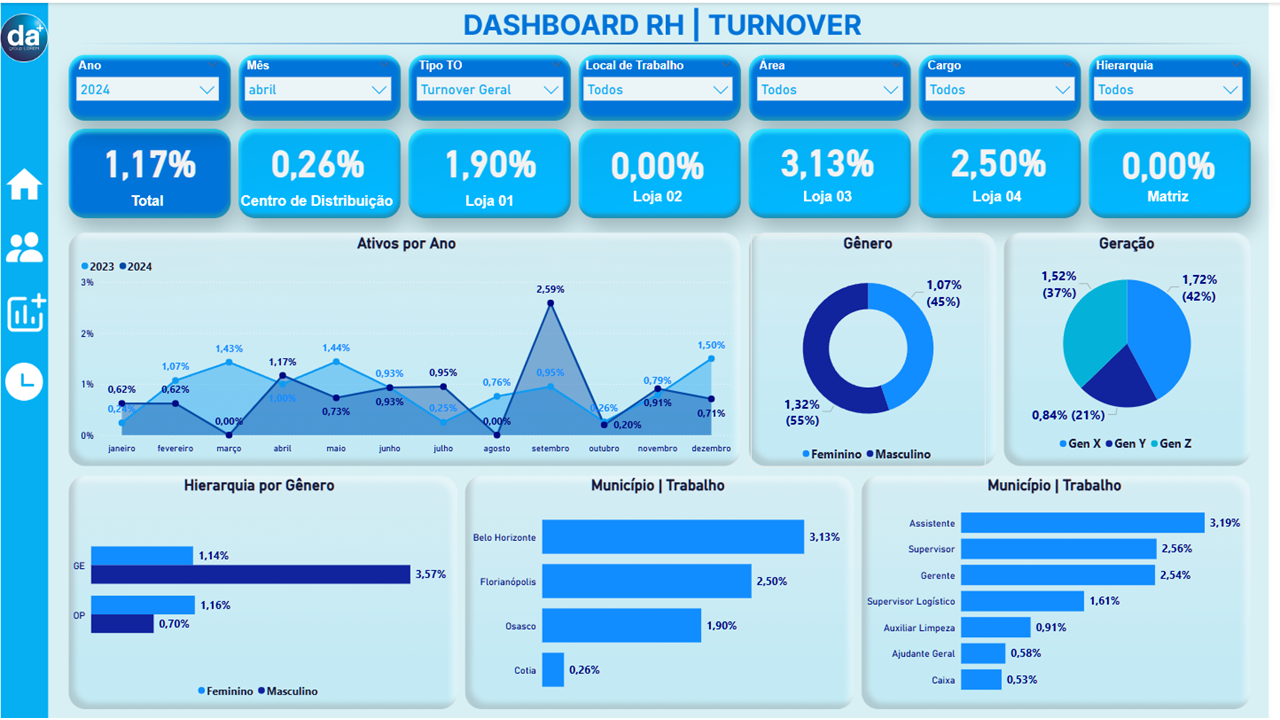

The dashboard page shown, as its layout file describes it:
{"tool":"powerbi","page":{"name":"Turnover","canvas":[1920,1080],"ordinal":2},"visuals":[{"type":"slicer","fields":{"Values":["D_Calendario.Date.Variation.Hierarquia de datas.Ano"]},"box":[104.4,78.9,233.3,102.2],"z":0},{"type":"slicer","fields":{"Values":["F_BASE.Local de Trabalho"]},"box":[865.6,78.9,243.3,102.2],"z":1000},{"type":"slicer","fields":{"Values":["F_BASE.Cargo"]},"box":[1378.9,78.9,243.3,97.8],"z":2000},{"type":"slicer","fields":{"Values":["F_BASE.Área"]},"box":[1126.7,78.9,237.8,97.8],"z":3000},{"type":"card","title":"xxxxx","fields":{"Values":["_Medida Turnover.Resultado_Filtro_Turnover"]},"box":[357.8,195.6,238.9,77.8],"z":5000},{"type":"textbox","box":[348.9,280,254.4,43.3],"z":6000},{"type":"textbox","box":[615.6,281.1,238.9,42.2],"z":7000},{"type":"textbox","box":[870,274.4,234.4,41.1],"z":8000},{"type":"textbox","box":[1120,274.4,244.4,41.1],"z":9000},{"type":"textbox","box":[1378.9,274.4,234.4,41.1],"z":10000},{"type":"textbox","box":[1637.8,274.4,231.1,41.1],"z":11000},{"type":"card","title":"xxxxx","fields":{"Values":["_Medida Turnover.Resultado_Filtro_Turnover"]},"box":[615.6,195.6,238.9,77.8],"z":12000},{"type":"card","title":"xxxxx","fields":{"Values":["_Medida Turnover.Resultado_Filtro_Turnover"]},"box":[870,195.6,234.4,83.3],"z":13000},{"type":"card","title":"xxxxx","fields":{"Values":["_Medida Turnover.Resultado_Filtro_Turnover"]},"box":[1120,193.3,244.4,81.1],"z":14000},{"type":"card","title":"xxxxx","fields":{"Values":["_Medida Turnover.Resultado_Filtro_Turnover"]},"box":[1635.6,195.6,235.6,83.3],"z":15000},{"type":"card","title":"xxxxx","fields":{"Values":["_Medida Turnover.Resultado_Filtro_Turnover"]},"box":[1378.9,193.3,238.9,81.1],"z":16000},{"type":"pieChart","title":"Geração","fields":{"Series":["D_Geracao.Geração"],"Y":["_Medida Turnover.Resultado_Filtro_Turnover"]},"box":[1508.9,346.7,365.6,335.6],"z":17000},{"type":"donutChart","title":"Gênero","fields":{"Series":["F_BASE.Sexo"],"Y":["_Medida Turnover.Resultado_Filtro_Turnover"]},"box":[1126.7,346.7,352.2,350],"z":18000},{"type":"clusteredBarChart","title":"Hierarquia por Gênero","fields":{"Category":["D_Tipo-Cargo.Tipo_Cargo"],"Series":["F_BASE.Sexo"],"Y":["_Medida Turnover.Resultado_Filtro_Turnover"]},"box":[103.3,710,571.1,342.2],"z":19000},{"type":"clusteredBarChart","title":"Município | Trabalho","fields":{"Category":["F_BASE.Local_Municipio"],"Y":["_Medida Turnover.Resultado_Filtro_Turnover"]},"box":[703.3,710,567.8,350],"z":20000},{"type":"lineChart","title":"Ativos por Ano","fields":{"Category":["D_Calendario.Date.Variation.Hierarquia de datas.Mês"],"Series":["D_Calendario.Date.Variation.Hierarquia de datas.Ano"],"Y":["_Medida Turnover.Resultado_Filtro_Turnover"]},"box":[115.6,346.7,988.9,335.6],"z":21000},{"type":"slicer","fields":{"Values":["D_Turnover.Tipo TO"]},"box":[615.6,78.9,238.9,102.2],"z":22000},{"type":"slicer","fields":{"Values":["D_Calendario.Date.Variation.Hierarquia de datas.Mês"]},"box":[357.8,78.9,238.9,102.2],"z":23000},{"type":"textbox","box":[103.3,281.1,234.4,43.3],"z":24000},{"type":"card","title":"xxxxx","fields":{"Values":["_Medida Turnover.Resultado_Filtro_Turnover"]},"box":[105.6,195.6,238.9,78.9],"z":25000},{"type":"clusteredBarChart","title":"Município | Trabalho","fields":{"Category":["D_Tipo-Cargo.Cargo"],"Y":["_Medida Turnover.Resultado_Filtro_Turnover"]},"box":[1294.4,710,576.7,342.2],"z":26000},{"type":"slicer","fields":{"Values":["F_BASE.Tipo_cargo"]},"box":[1632.2,78.9,242.2,97.8],"z":27000},{"type":"actionButton","box":[0,280.7,80,26],"z":28000},{"type":"actionButton","box":[0,375.3,80,26],"z":29000},{"type":"actionButton","box":[0,478.7,80,26],"z":30000},{"type":"actionButton","box":[0,575.3,80,26],"z":31000}]}

Visuals, with their boxes on the page's 1920x1080 design canvas (x1, y1, x2, y2). These are canvas units, not pixel positions in the 1280x720 screenshot, which may show the page scaled, cropped or inside an application window:
slicer - D_Calendario.Date.Variation.Hierarquia de datas.Ano: box(104, 79, 338, 181)
slicer - F_BASE.Local de Trabalho: box(866, 79, 1109, 181)
slicer - F_BASE.Cargo: box(1379, 79, 1622, 177)
slicer - F_BASE.Área: box(1127, 79, 1364, 177)
"xxxxx" card: box(358, 196, 597, 273)
textbox: box(349, 280, 603, 323)
textbox: box(616, 281, 854, 323)
textbox: box(870, 274, 1104, 316)
textbox: box(1120, 274, 1364, 316)
textbox: box(1379, 274, 1613, 316)
textbox: box(1638, 274, 1869, 316)
"xxxxx" card: box(616, 196, 854, 273)
"xxxxx" card: box(870, 196, 1104, 279)
"xxxxx" card: box(1120, 193, 1364, 274)
"xxxxx" card: box(1636, 196, 1871, 279)
"xxxxx" card: box(1379, 193, 1618, 274)
"Geração" pieChart: box(1509, 347, 1874, 682)
"Gênero" donutChart: box(1127, 347, 1479, 697)
"Hierarquia por Gênero" clusteredBarChart: box(103, 710, 674, 1052)
"Município | Trabalho" clusteredBarChart: box(703, 710, 1271, 1060)
"Ativos por Ano" lineChart: box(116, 347, 1104, 682)
slicer - D_Turnover.Tipo TO: box(616, 79, 854, 181)
slicer - D_Calendario.Date.Variation.Hierarquia de datas.Mês: box(358, 79, 597, 181)
textbox: box(103, 281, 338, 324)
"xxxxx" card: box(106, 196, 344, 274)
"Município | Trabalho" clusteredBarChart: box(1294, 710, 1871, 1052)
slicer - F_BASE.Tipo_cargo: box(1632, 79, 1874, 177)
actionButton: box(0, 281, 80, 307)
actionButton: box(0, 375, 80, 401)
actionButton: box(0, 479, 80, 505)
actionButton: box(0, 575, 80, 601)
